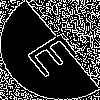E: (25, 25, 89, 80)
